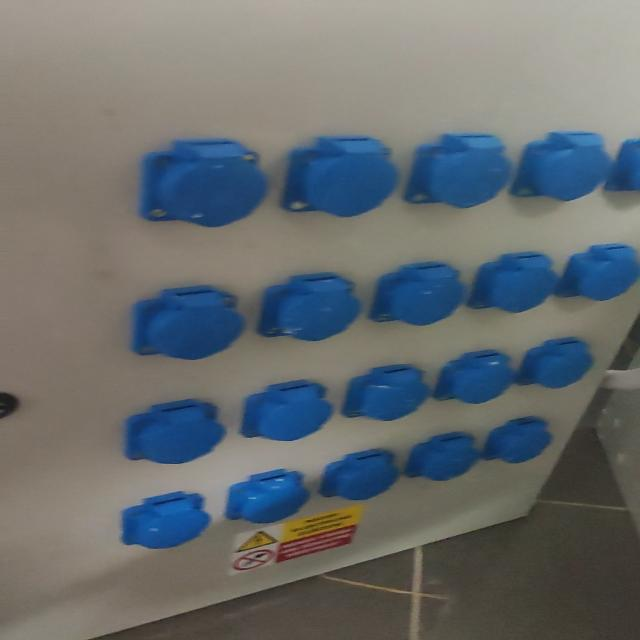house plug covered: (137, 141, 268, 230), (279, 136, 396, 219), (128, 286, 245, 361), (402, 133, 510, 209), (513, 131, 615, 203), (260, 275, 357, 342), (120, 402, 221, 465), (372, 264, 463, 327), (119, 491, 213, 549), (243, 380, 332, 441), (473, 252, 560, 313), (556, 243, 640, 303), (224, 469, 311, 523), (346, 365, 427, 421), (434, 349, 516, 404), (319, 449, 399, 500), (516, 341, 592, 389), (408, 432, 477, 481), (482, 416, 552, 464)
